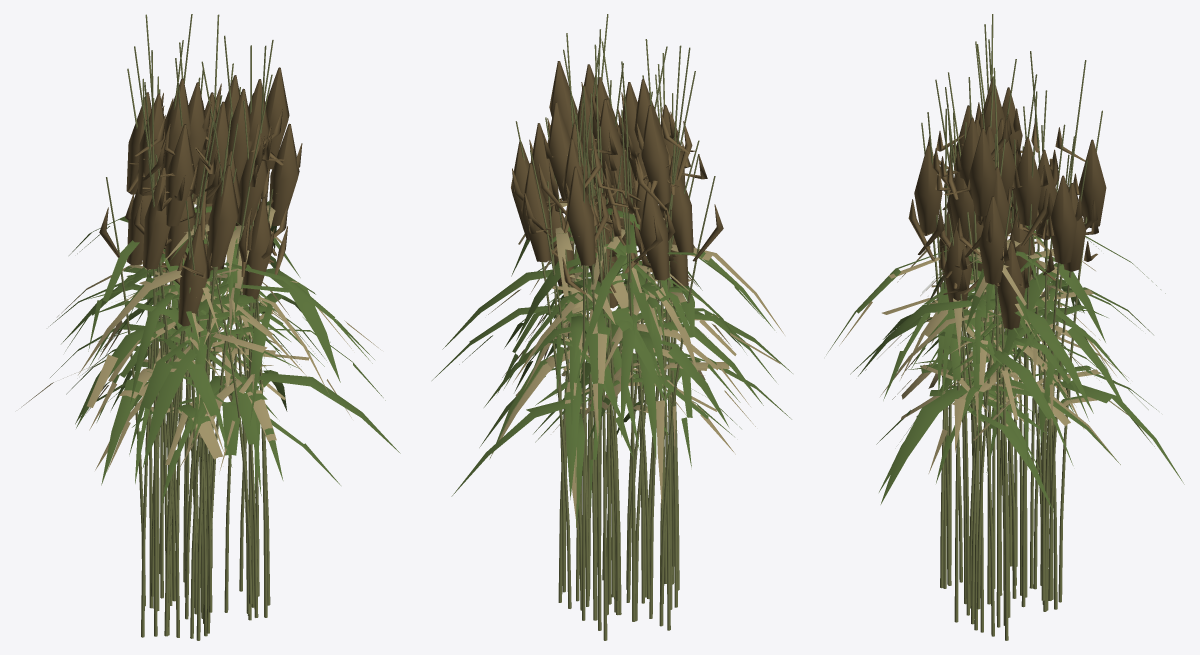
The model's file is vegetation_08.glb.
3 views of the same model, side by side, from view 1: azimuth 30°, elevation 25°; view 2: azimuth 150°, elevation 25°; view 3: azimuth 270°, elevation 25° (orthographic). The views are drawn at different scales.
Parts seen in each view (by area): view 1: prototype_069, prototype_065, prototype_068, prototype_070, prototype_067, prototype_064, prototype_071, prototype_066; view 2: prototype_065, prototype_070, prototype_067, prototype_068, prototype_071, prototype_064, prototype_069, prototype_066; view 3: prototype_071, prototype_068, prototype_067, prototype_069, prototype_064, prototype_070, prototype_065, prototype_066.
Boxes of the visible parts, bbox=[...] form: prototype_069: bbox=[65, 35, 400, 617]; prototype_065: bbox=[76, 40, 324, 637]; prototype_068: bbox=[50, 14, 385, 636]; prototype_070: bbox=[57, 14, 328, 636]; prototype_067: bbox=[21, 14, 374, 618]; prototype_064: bbox=[61, 63, 340, 633]; prototype_071: bbox=[78, 45, 330, 640]; prototype_066: bbox=[68, 64, 380, 633]; prototype_065: bbox=[451, 39, 791, 630]; prototype_070: bbox=[514, 45, 776, 630]; prototype_067: bbox=[484, 33, 792, 640]; prototype_068: bbox=[504, 29, 734, 612]; prototype_071: bbox=[432, 14, 784, 618]; prototype_064: bbox=[504, 41, 740, 620]; prototype_069: bbox=[538, 38, 750, 602]; prototype_066: bbox=[488, 52, 731, 608]; prototype_071: bbox=[912, 72, 1156, 636]; prototype_068: bbox=[826, 59, 1154, 632]; prototype_067: bbox=[880, 41, 1138, 625]; prototype_069: bbox=[879, 67, 1165, 640]; prototype_064: bbox=[850, 91, 1128, 615]; prototype_070: bbox=[876, 24, 1153, 610]; prototype_065: bbox=[897, 14, 1184, 604]; prototype_066: bbox=[858, 104, 1120, 615].
Bounding box in the file's own units: 1.77 × 3.26 × 1.88.
